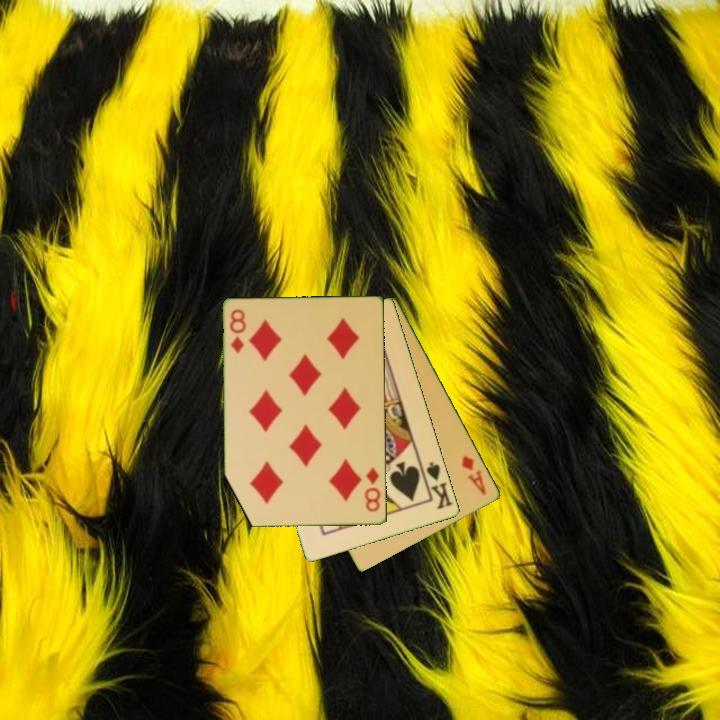8d: (226, 306, 249, 356), (362, 464, 383, 515)
Ad: (458, 452, 489, 498)
Ks: (423, 458, 456, 512)
